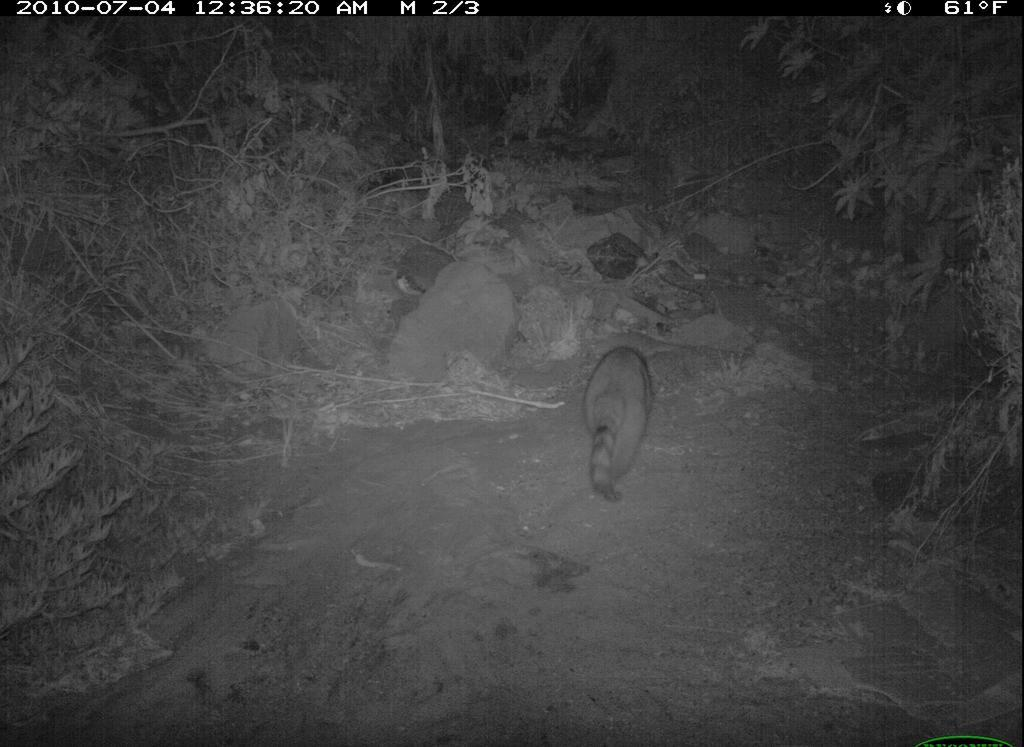raccoon: (574, 335, 662, 515)
